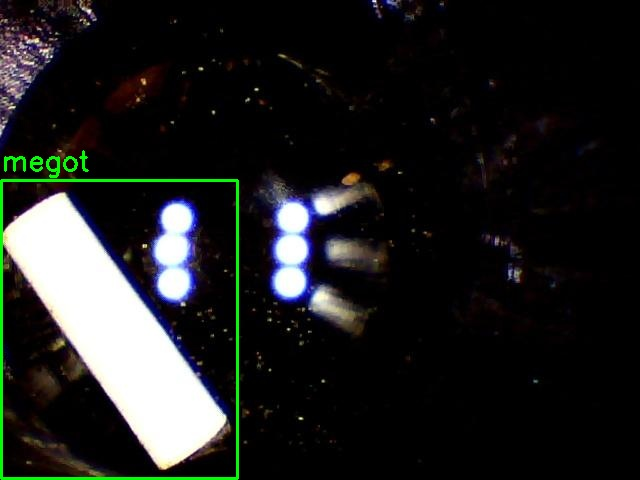megot: (1, 180, 237, 478)
